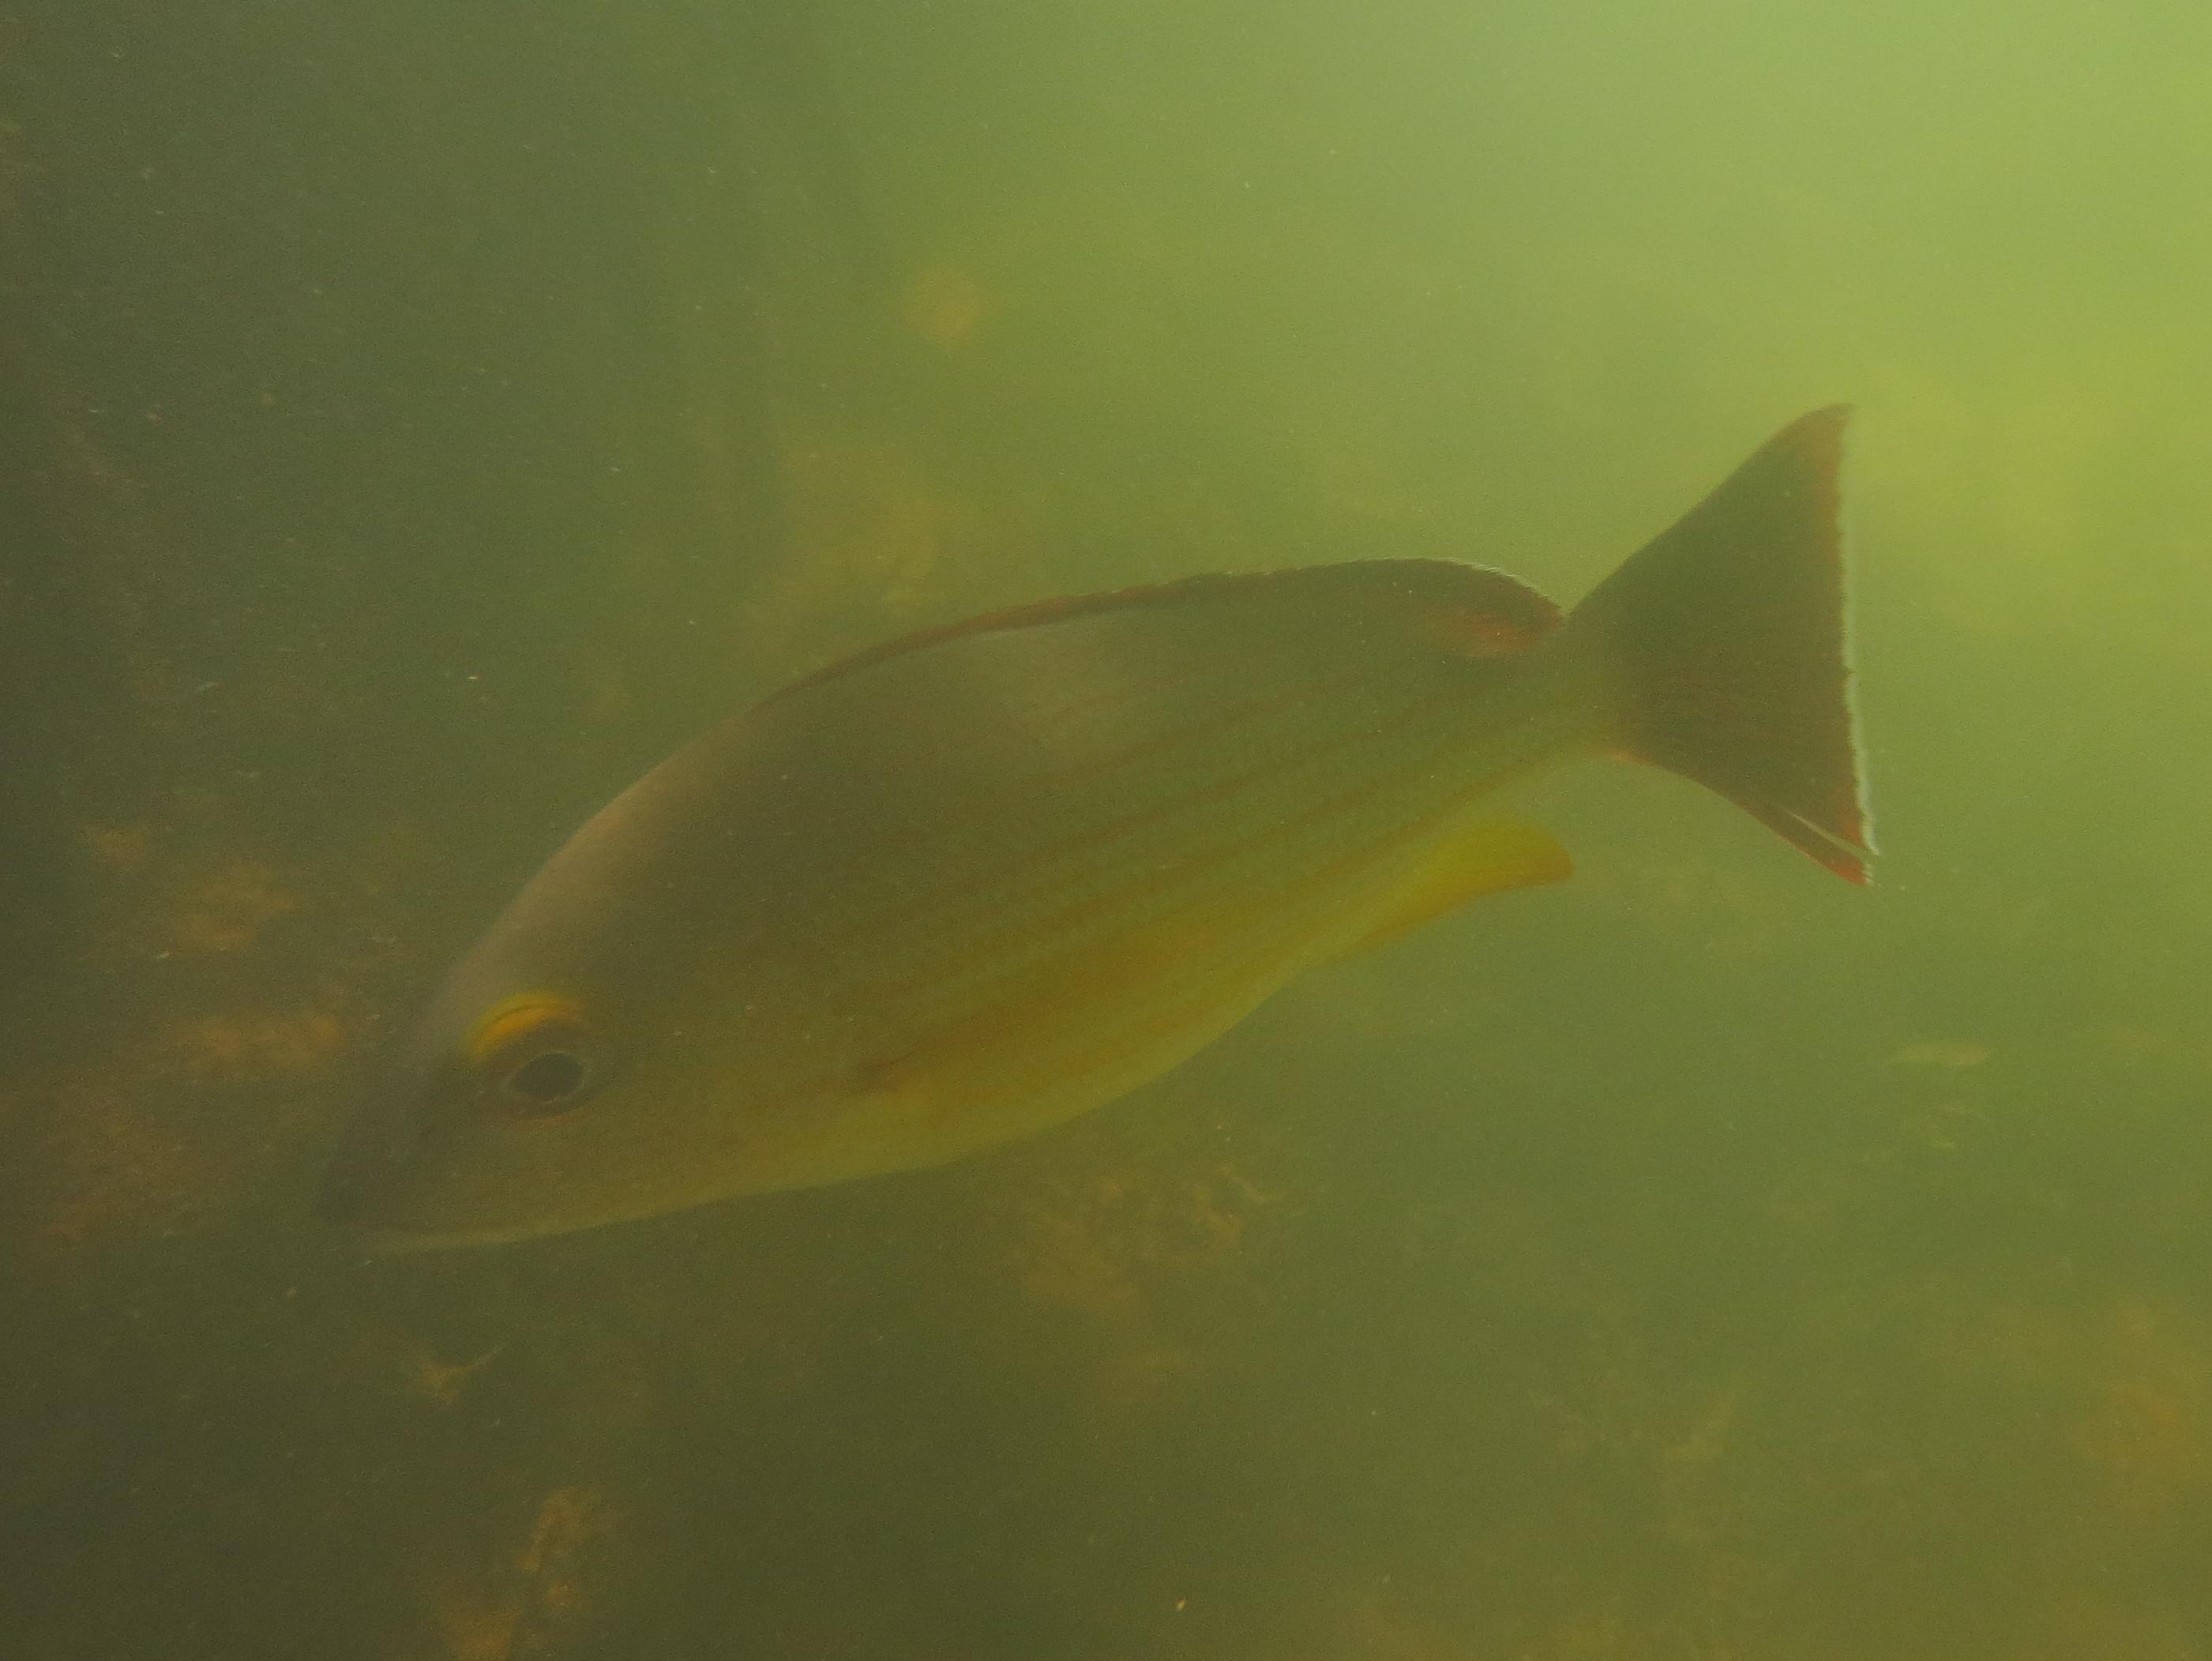Fish: (258, 321, 1912, 1316)
